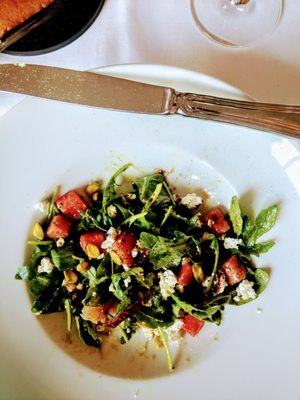burger: (1, 58, 299, 142)
curry: (139, 229, 200, 271)
sandwich: (0, 59, 299, 137)
